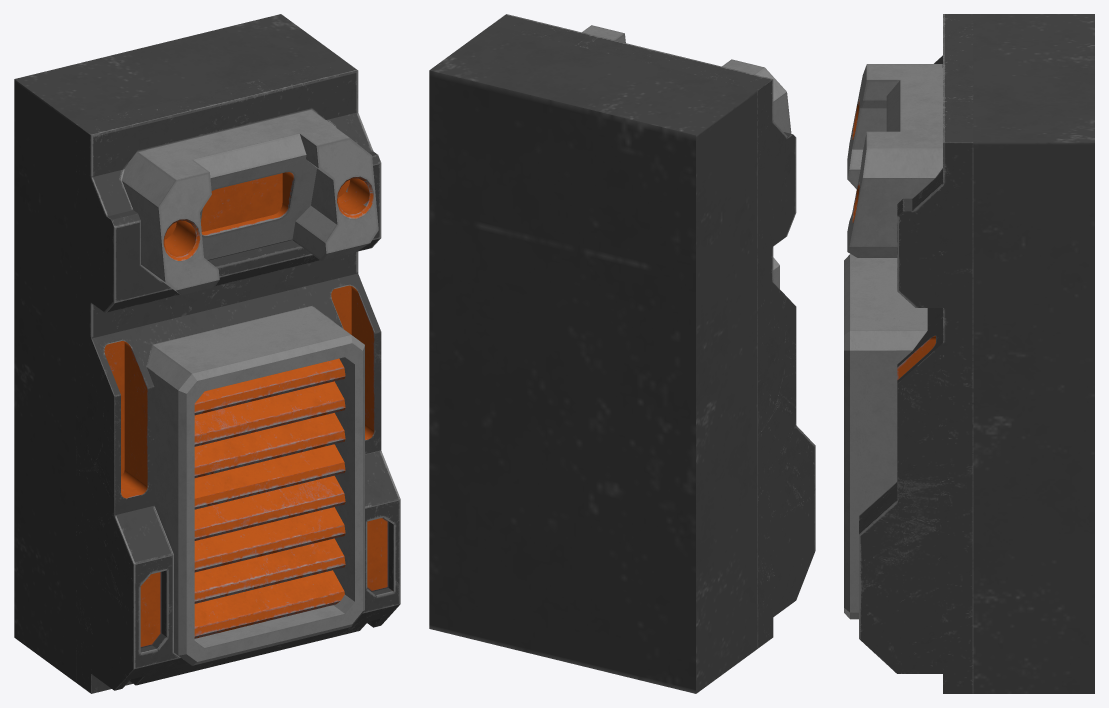
File: tile_wall4.FBX
3 renders of one model, left to right at view 1: azimuth 30°, elevation 25°; view 2: azimuth 150°, elevation 25°; view 3: azimuth 270°, elevation 25°, orthographic.
Visible parts, largest first — view 1: tile_wall4; view 2: tile_wall4; view 3: tile_wall4.
Part boxes in pixels (x1,y1,x2,y2): tile_wall4: (14,14,400,693); tile_wall4: (429,14,815,693); tile_wall4: (844,14,1094,693).
Bounding box in the file's own units: 100 × 200 × 82.5.
1 material, 1 textured.
